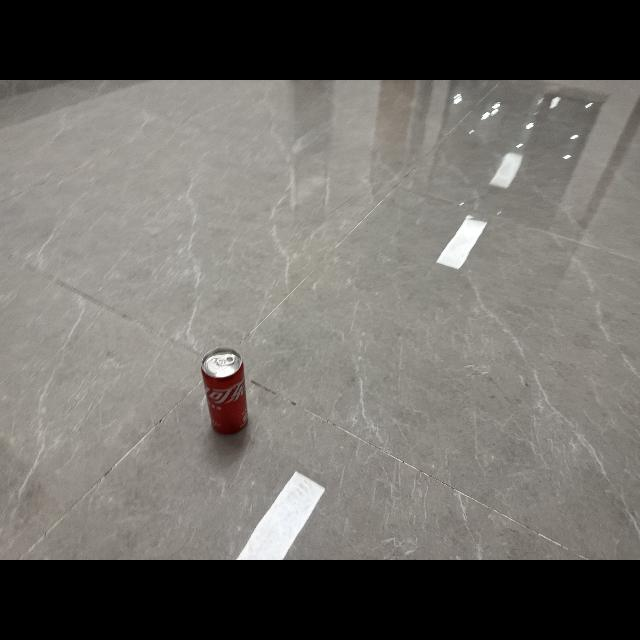Cola: (199, 347, 255, 439)
